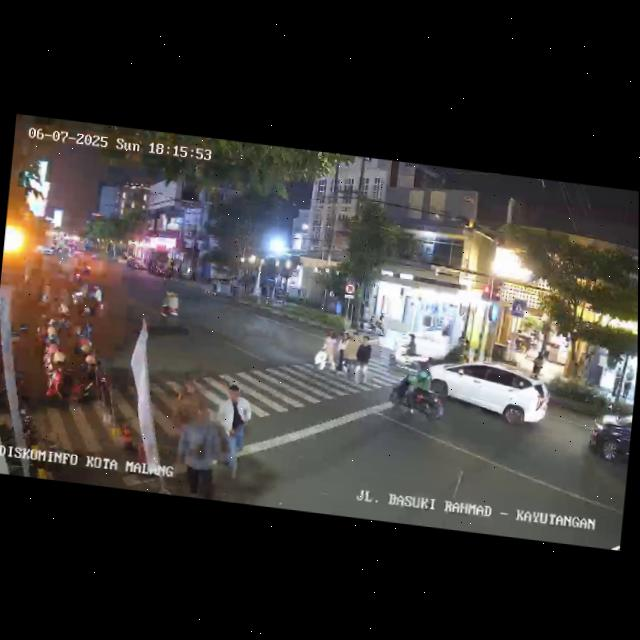car: (423, 353, 552, 429), (586, 403, 632, 470)
motorcycle: (385, 354, 447, 423), (388, 331, 431, 372), (156, 288, 181, 330), (81, 282, 107, 319)
person: (172, 405, 228, 500), (213, 383, 254, 482), (171, 373, 209, 433), (312, 330, 335, 377), (353, 334, 374, 385), (342, 331, 359, 381), (331, 330, 349, 377), (621, 367, 634, 400), (610, 366, 622, 398), (531, 348, 544, 375), (373, 312, 386, 337)
